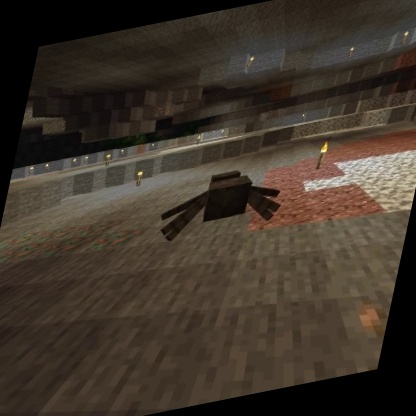spider: (149, 155, 293, 249)
